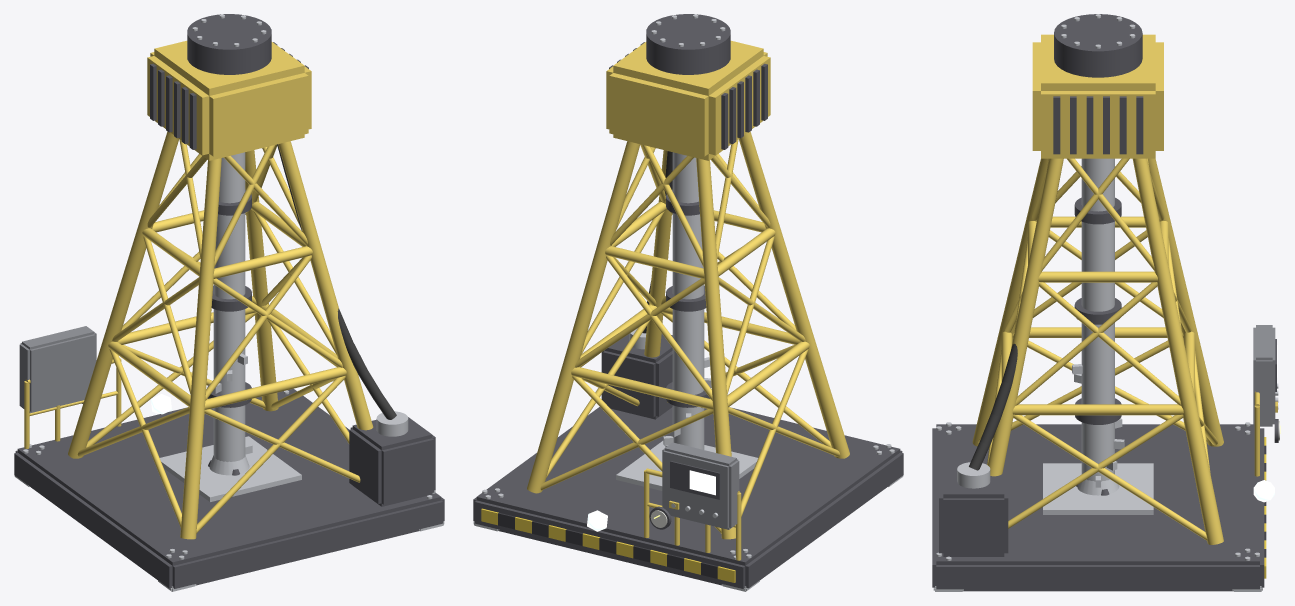
Rendered from drill_1.fbx.
3 views of the same model, side by side, from view 1: azimuth 30°, elevation 25°; view 2: azimuth 150°, elevation 25°; view 3: azimuth 270°, elevation 25° (orthographic). The views are drawn at different scales.
Parts seen in each view (by area): view 1: drill_1, Drill_Y_Stem; view 2: drill_1, Drill_Y_Stem; view 3: drill_1, Drill_Y_Stem.
Part boxes in pixels (x1,y1,x2,y2): drill_1: [14, 14, 444, 591]; Drill_Y_Stem: [207, 152, 252, 475]; drill_1: [473, 14, 903, 591]; Drill_Y_Stem: [663, 152, 711, 449]; drill_1: [932, 14, 1280, 591]; Drill_Y_Stem: [1072, 158, 1124, 495].
Bounding box in the file's own units: 2.4 × 3.93 × 2.52.
